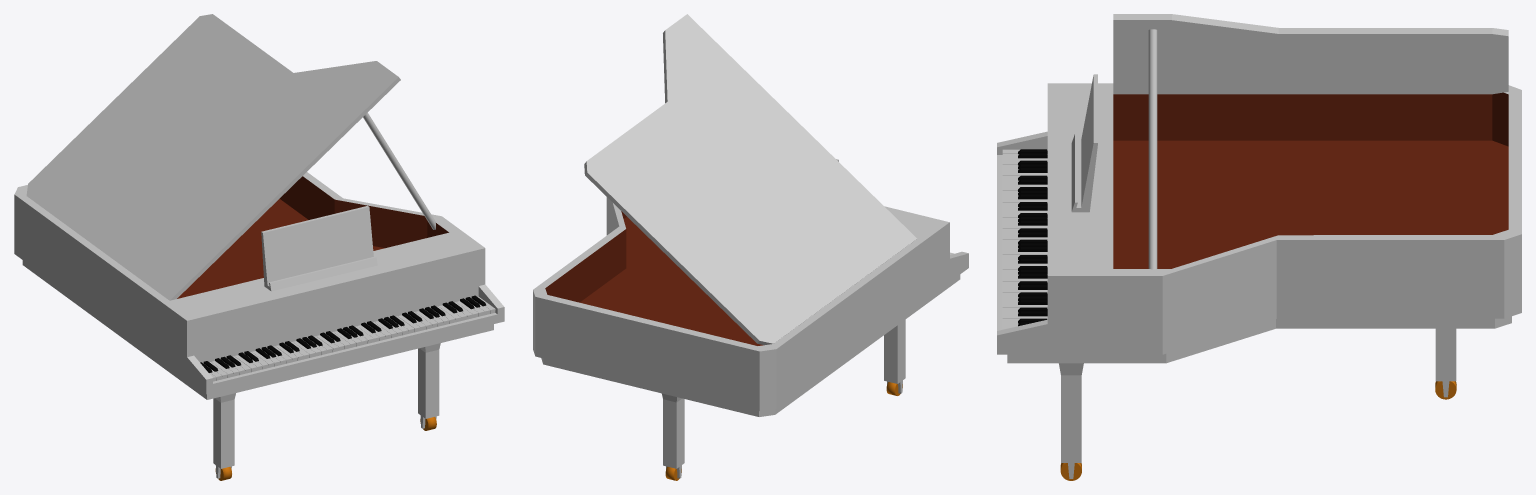
File: piano_uv.obj
3 views of the same model, side by side, from view 1: azimuth 30°, elevation 25°; view 2: azimuth 150°, elevation 25°; view 3: azimuth 270°, elevation 25° (orthographic). The views are drawn at different scales.
Parts seen in each view (by area): view 1: Cube.002_Cube.006, wood; view 2: Cube.002_Cube.006, wood; view 3: Cube.002_Cube.006, wood, gold.
Part boxes in pixels (x1,y1,x2,y2): Cube.002_Cube.006: (14,14,504,478); wood: (177,176,448,298); Cube.002_Cube.006: (533,14,968,478); wood: (545,211,763,345); Cube.002_Cube.006: (997,14,1521,478); wood: (1113,92,1508,268); gold: (1060,381,1456,480).
Bounding box in the file's own units: 2 × 2.21 × 2.3.
